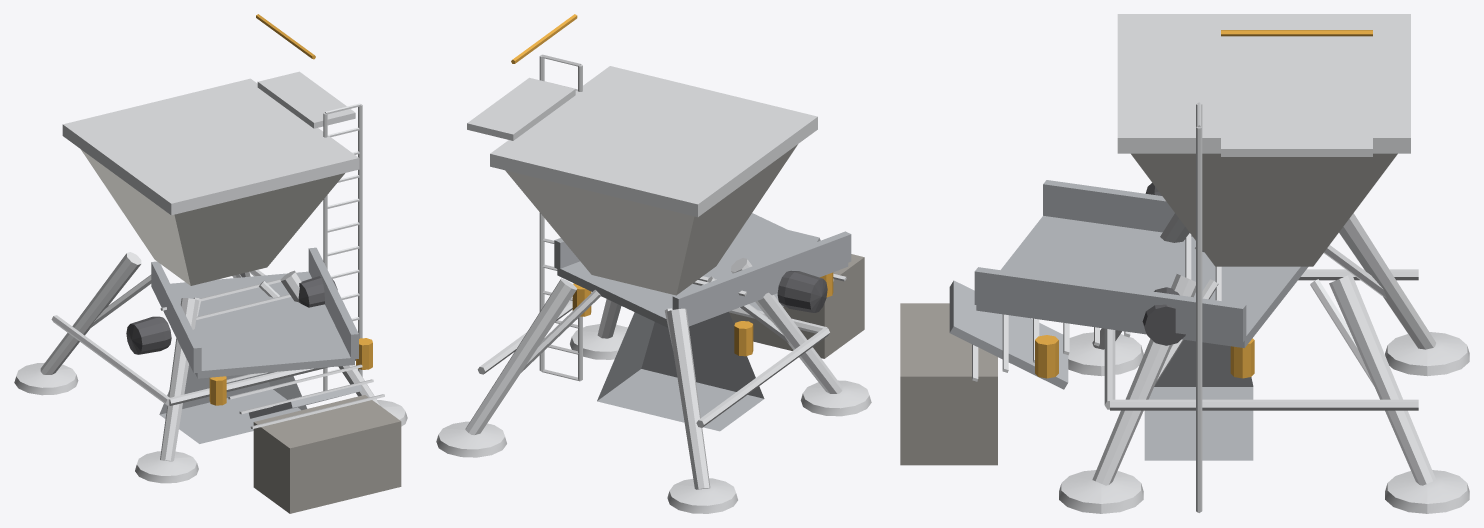
The model's file is regolith-hopper-screen-148a2c37.glb.
3 renders of one model, left to right at view 1: azimuth 30°, elevation 25°; view 2: azimuth 150°, elevation 25°; view 3: azimuth 270°, elevation 25°, orthographic. The views are drawn at different scales.
Visible parts, largest first — view 1: regolith-hopper-screen; view 2: regolith-hopper-screen; view 3: regolith-hopper-screen.
Boxes of the visible parts, x1=… form: regolith-hopper-screen: x1=14, y1=14, x2=407, y2=513; regolith-hopper-screen: x1=436, y1=14, x2=871, y2=513; regolith-hopper-screen: x1=900, y1=14, x2=1469, y2=513.
Bounding box in the file's own units: 3.8 × 4.65 × 5.24.
